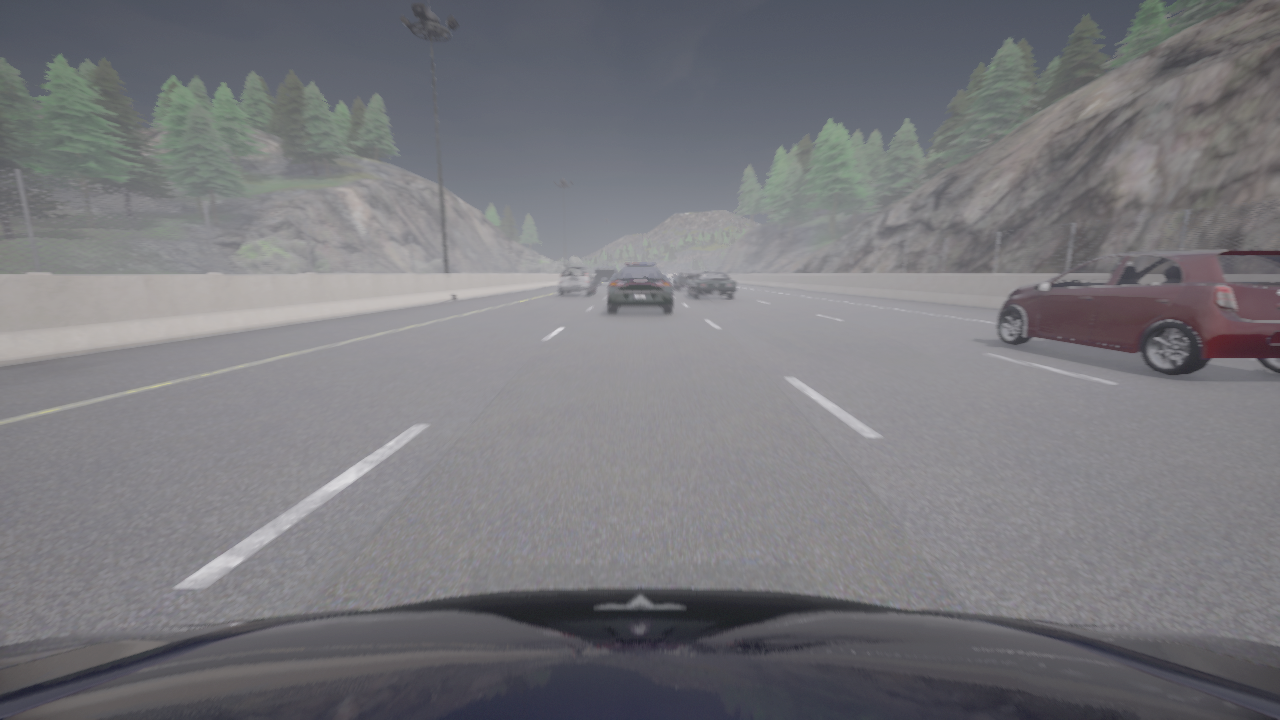cyclist: (0, 588, 1279, 719), (996, 249, 1279, 375), (607, 263, 672, 313), (688, 271, 735, 298), (558, 266, 595, 295), (672, 269, 698, 290), (593, 265, 617, 285)
